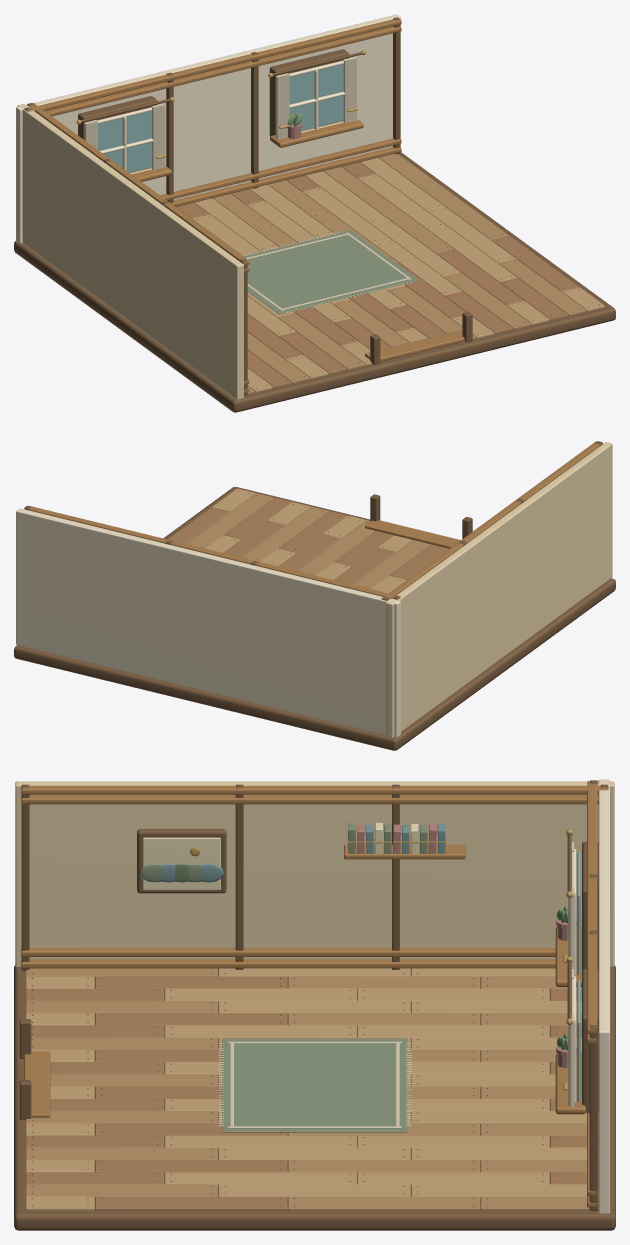
Rendered from cozy_home.glb.
The picture shows the model from 3 angles, top to bottom: view 1: azimuth 30°, elevation 25°; view 2: azimuth 150°, elevation 25°; view 3: azimuth 270°, elevation 25°; orthographic projection. The views are drawn at different scales.
Parts seen in each view (by area): view 1: Left plaster wall, Back plaster wall, Staggered oak plank.001, Raised floor frame, Staggered oak plank, Back moulding, Staggered oak plank.004, Books with linen covers, Morning glass, Curtain fold; view 2: Back plaster wall, Left plaster wall, Raised floor frame, Staggered oak plank.004, Staggered oak plank, Back moulding, Staggered oak plank.001; view 3: Left plaster wall, Staggered oak plank.001, Staggered oak plank, Back moulding, Raised floor frame, Staggered oak plank.004, Books with linen covers, Back plaster wall, Curtain fold, Books with linen covers.003, Books with linen covers.002, Clay planter (+1 smaller).
Part boxes in pixels (x1,y1,x2,y2): Left plaster wall: (17,104,243,399); Back plaster wall: (16,14,400,243); Staggered oak plank.001: (192,157,605,392); Raised floor frame: (14,17,615,412); Staggered oak plank: (212,153,586,394); Back moulding: (27,19,464,393); Staggered oak plank.004: (176,162,579,387); Books with linen covers: (244,230,418,314); Morning glass: (98,64,343,172); Curtain fold: (84,56,411,313); Back plaster wall: (16,508,400,737); Left plaster wall: (386,442,612,737); Raised floor frame: (14,441,615,750); Staggered oak plank.004: (168,497,448,584); Staggered oak plank: (186,493,430,588); Back moulding: (28,441,599,599); Staggered oak plank.001: (204,488,411,593); Left plaster wall: (15,781,614,967); Staggered oak plank.001: (26,968,598,1210); Staggered oak plank: (26,968,598,1210); Back moulding: (21,781,608,1207); Raised floor frame: (14,780,615,1230); Staggered oak plank.004: (26,976,598,1210); Books with linen covers: (139,823,427,1132); Back plaster wall: (571,779,610,1213); Curtain fold: (218,842,574,1128); Books with linen covers.003: (142,822,418,890); Books with linen covers.002: (162,824,445,882); Clay planter: (357,823,577,1068).
Size of the model in its own units: 10.4 by 3.84 by 10.4.
